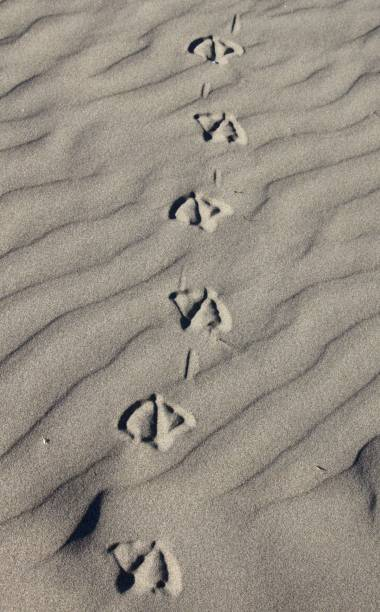animal_foot_print: (119, 394, 195, 451), (109, 540, 182, 597), (169, 288, 231, 332), (169, 192, 232, 232), (194, 112, 247, 144), (188, 35, 243, 64)
